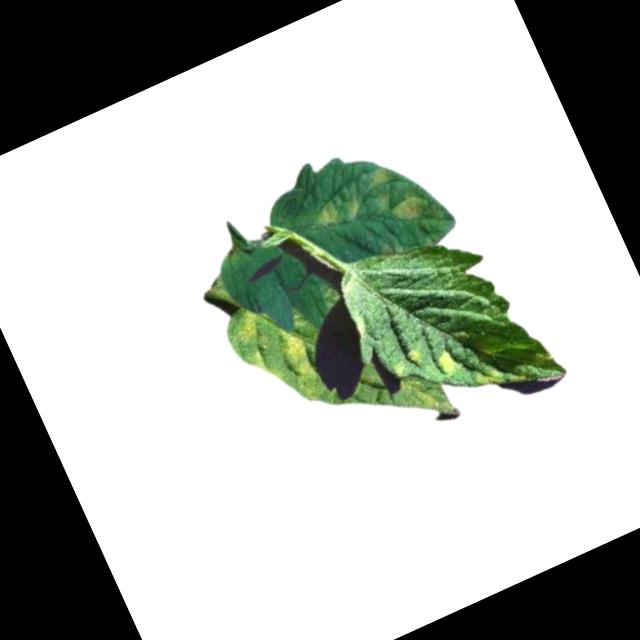Leaf_Mold: (271, 327, 321, 393), (308, 193, 357, 236), (224, 308, 265, 349), (388, 192, 430, 229), (362, 163, 400, 200), (430, 345, 463, 379)
